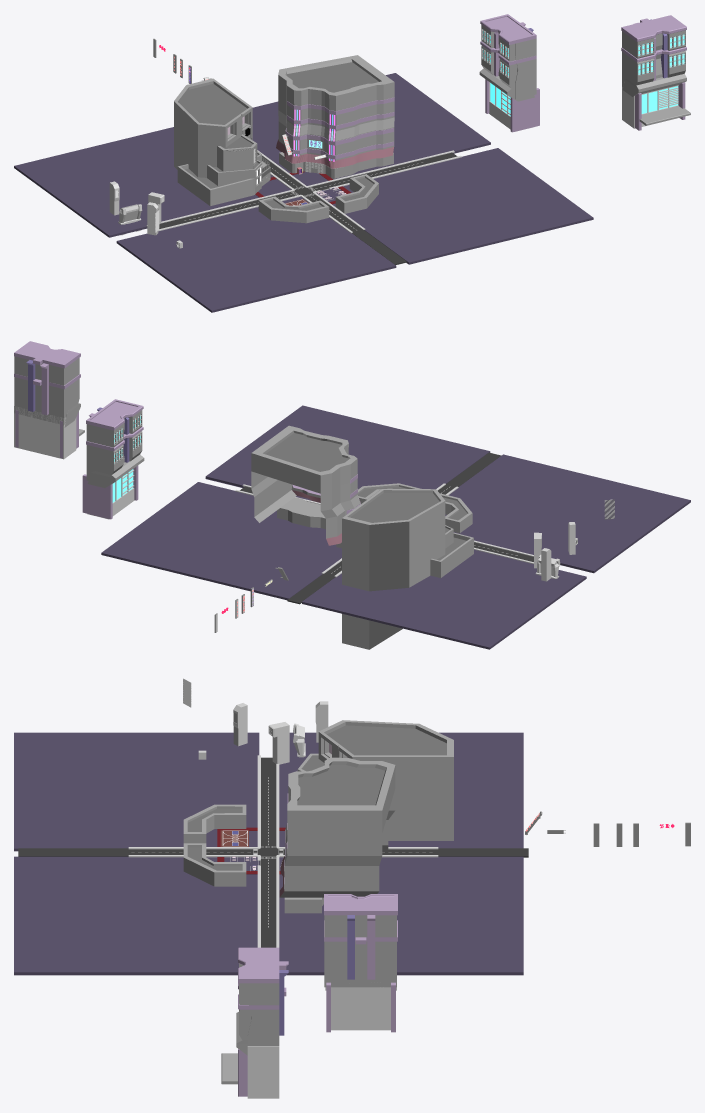
File: PrarieKingTEST.fbx
3 renders of one model, top to bottom at view 1: azimuth 30°, elevation 25°; view 2: azimuth 150°, elevation 25°; view 3: azimuth 270°, elevation 25°, orthographic. The views are drawn at different scales.
Parts seen in each view (by area): view 1: Cube.308, Cube.311, Cube.309, Cube.180, Cube.233, Cube.235, Cube.232, Cube.208, Cube.413, Cube.441, Cube.229, Cube.210 (+15 smaller); view 2: Cube.308, Cube.233, Cube.309, Cube.235, Cube.311, Cube.180, Cube.236, Cube.441, Cube.416, Cube.210, Cube.208, Cube.306 (+6 smaller); view 3: Cube.311, Cube.308, Cube.233, Cube.180, Cube.309, Cube.235, Cube.442, Cube.210, Cube.229, Cube.443, Cube.236, Cube.416 (+9 smaller).
Part boxes in pixels (bbox=[...]): Cube.308: bbox=[116, 196, 396, 312]; Cube.311: bbox=[317, 148, 593, 264]; Cube.309: bbox=[14, 127, 290, 237]; Cube.180: bbox=[278, 55, 394, 168]; Cube.233: bbox=[252, 73, 490, 185]; Cube.235: bbox=[174, 78, 252, 177]; Cube.232: bbox=[622, 30, 686, 96]; Cube.208: bbox=[177, 151, 262, 206]; Cube.413: bbox=[285, 97, 394, 159]; Cube.441: bbox=[479, 25, 534, 101]; Cube.229: bbox=[159, 152, 457, 228]; Cube.210: bbox=[262, 156, 406, 264]; Cube.308: bbox=[445, 454, 690, 573]; Cube.233: bbox=[101, 482, 341, 600]; Cube.309: bbox=[302, 549, 586, 649]; Cube.235: bbox=[342, 489, 445, 649]; Cube.311: bbox=[205, 405, 490, 502]; Cube.180: bbox=[251, 425, 360, 538]; Cube.236: bbox=[14, 356, 70, 425]; Cube.441: bbox=[87, 410, 144, 487]; Cube.416: bbox=[14, 406, 76, 459]; Cube.210: bbox=[287, 452, 501, 604]; Cube.208: bbox=[430, 525, 473, 577]; Cube.306: bbox=[277, 497, 325, 529]; Cube.311: bbox=[14, 856, 259, 975]; Cube.308: bbox=[14, 732, 259, 851]; Cube.233: bbox=[279, 856, 523, 975]; Cube.180: bbox=[280, 757, 395, 897]; Cube.309: bbox=[279, 732, 523, 848]; Cube.235: bbox=[318, 720, 453, 840]; Cube.442: bbox=[324, 915, 396, 987]; Cube.210: bbox=[18, 848, 528, 857]; Cube.229: bbox=[259, 757, 276, 947]; Cube.443: bbox=[331, 987, 390, 1030]; Cube.236: bbox=[247, 983, 279, 1045]; Cube.416: bbox=[247, 1046, 279, 1098].
Bounding box in the file's own units: 97805 × 23356 × 79211.
